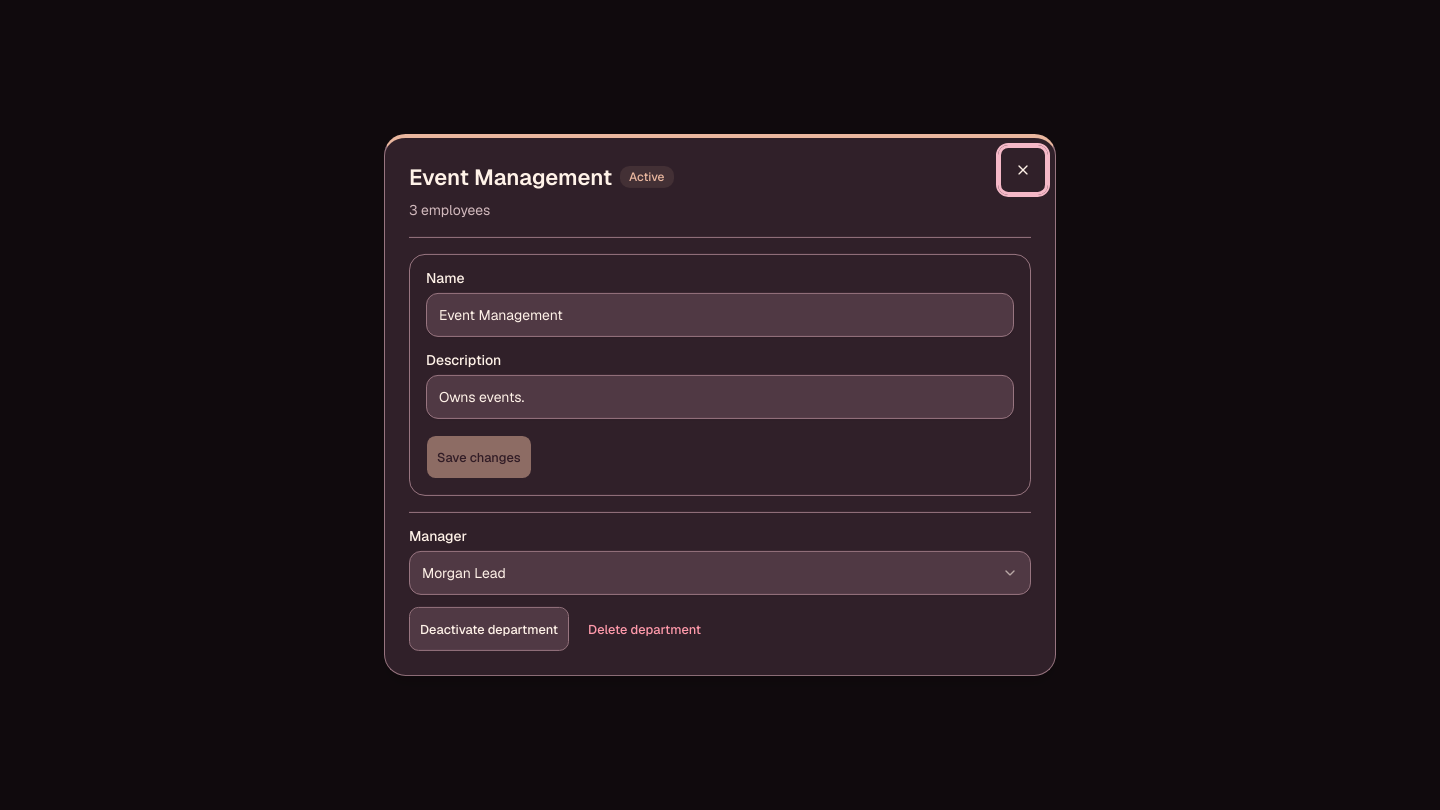
Scenario: DepartmentDetailDialog › surfaces an in-use error when a delete is refused
The image size is (1440, 810).
Expected: the field showing "Event Management" is shown, [426, 293, 1014, 337]
Step 1. Click the button "Delete department" → [645, 629], box [577, 607, 712, 651]
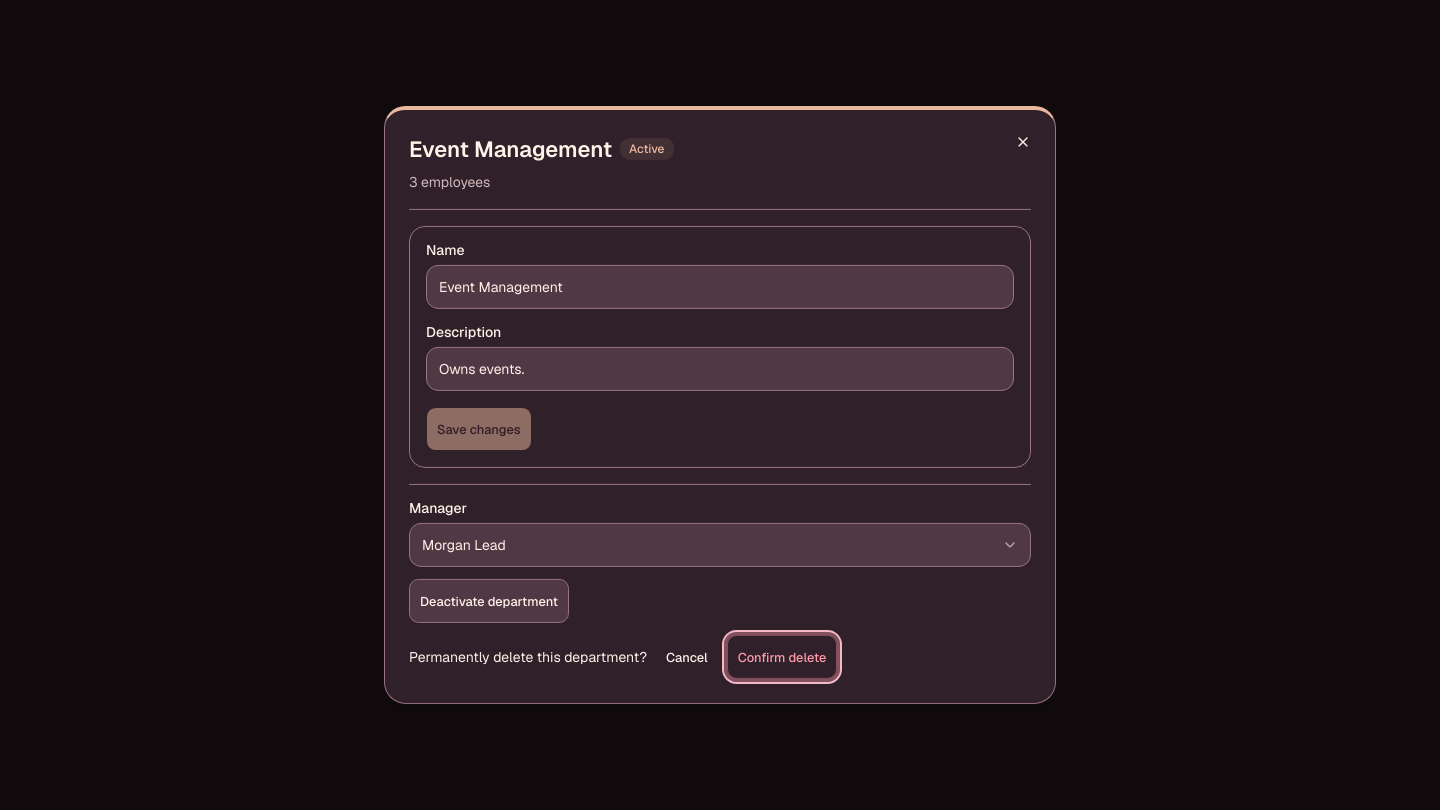
Step 2. Click the button "Confirm delete" → [782, 657], box [727, 635, 837, 679]
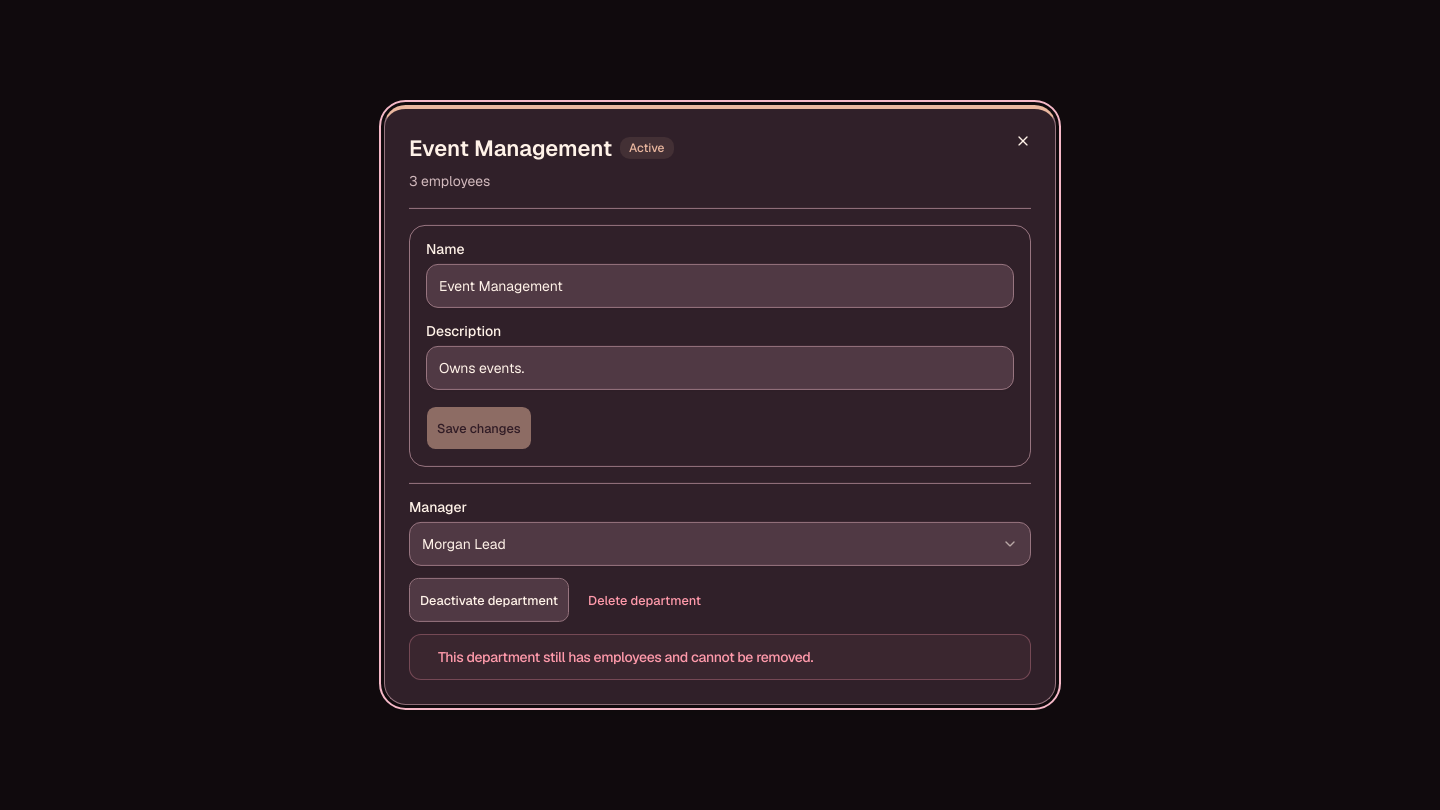
Now the text "This department still has employees and cannot be removed." is shown, box [438, 648, 813, 666]
